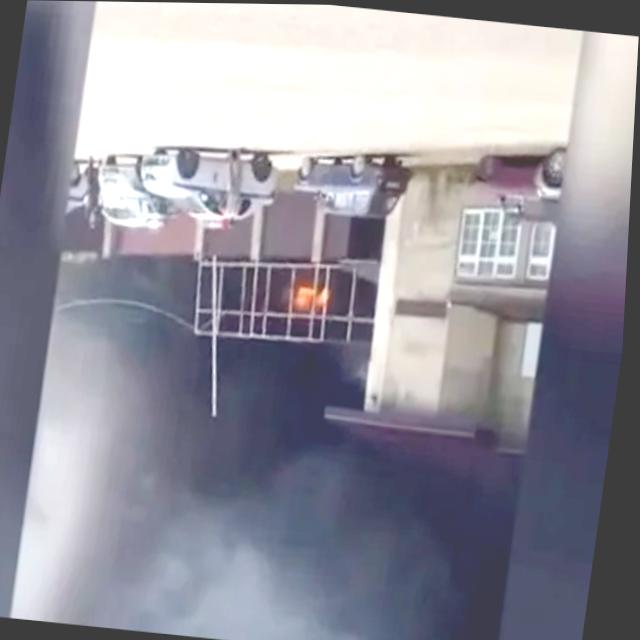no_helmet: (18, 258, 553, 640)
